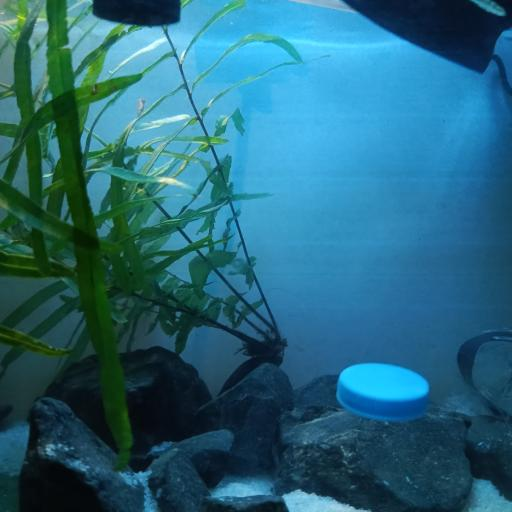bottle_cap: (338, 362, 434, 421), (89, 1, 184, 26)
mask: (346, 0, 512, 91)
plastic_bottle: (443, 306, 512, 410)
